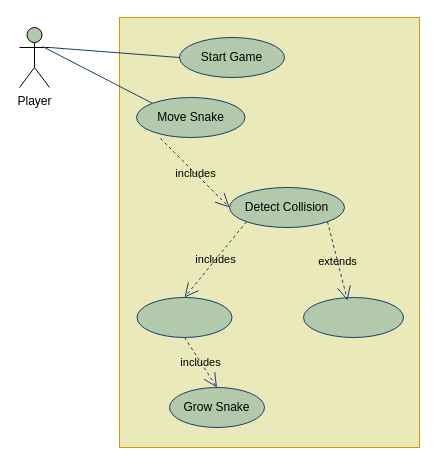
This 437x465 diagram has some shape labels left out. Here are the shapes that lost their labels. From the top down, the box of each, then its label:
(136, 296, 232, 338): Eat Food
(302, 296, 404, 338): End Game
